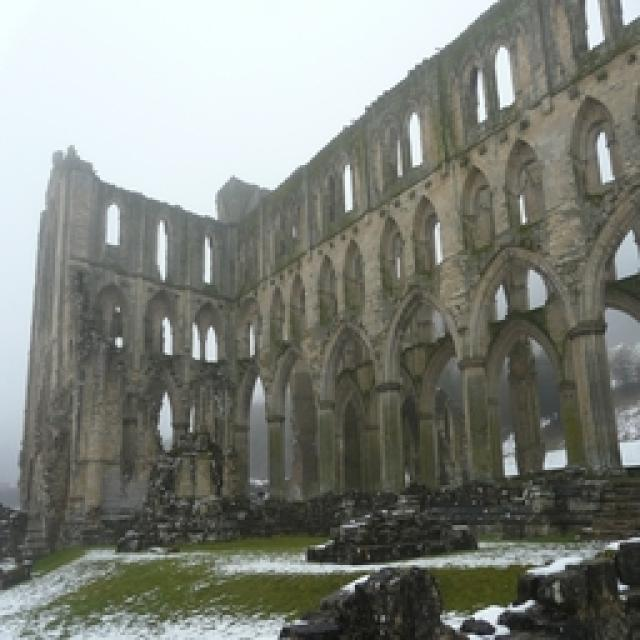Abbey: (21, 65, 640, 549)
